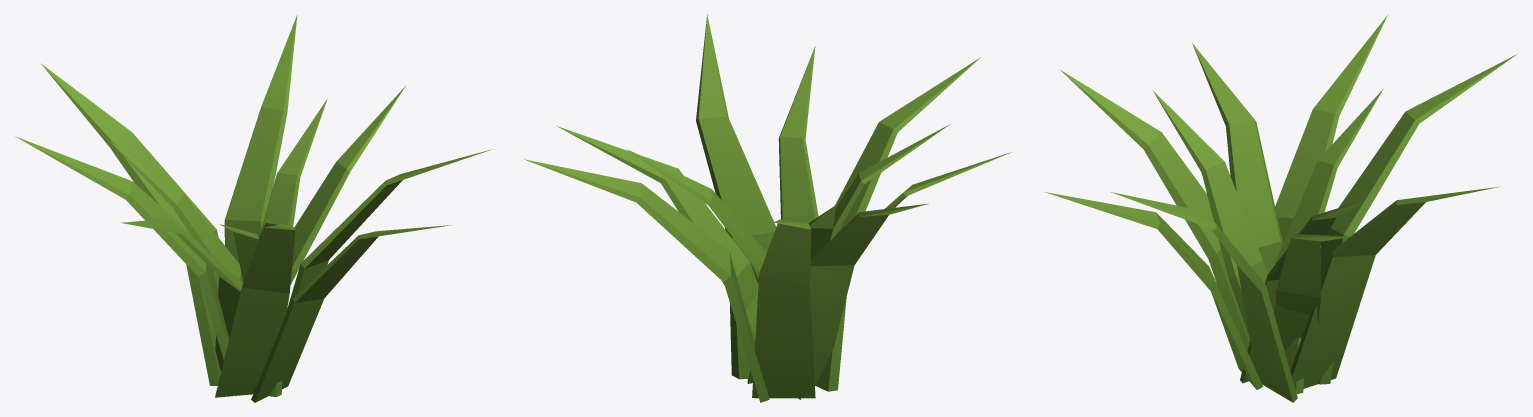
File: grass001.gltf
3 views of the same model, side by side, from view 1: azimuth 30°, elevation 25°; view 2: azimuth 150°, elevation 25°; view 3: azimuth 270°, elevation 25° (orthographic). The views are drawn at different scales.
Visible parts, largest first — view 1: Grass_bush_high_01; view 2: Grass_bush_high_01; view 3: Grass_bush_high_01.
Boxes of the visible parts, x1,y1,x2,y2 form: Grass_bush_high_01: [15, 15, 491, 402]; Grass_bush_high_01: [524, 14, 1011, 402]; Grass_bush_high_01: [1044, 15, 1517, 402].
Bounding box in the file's own units: 1.84 × 1.22 × 1.92.
1 material, 1 textured.
